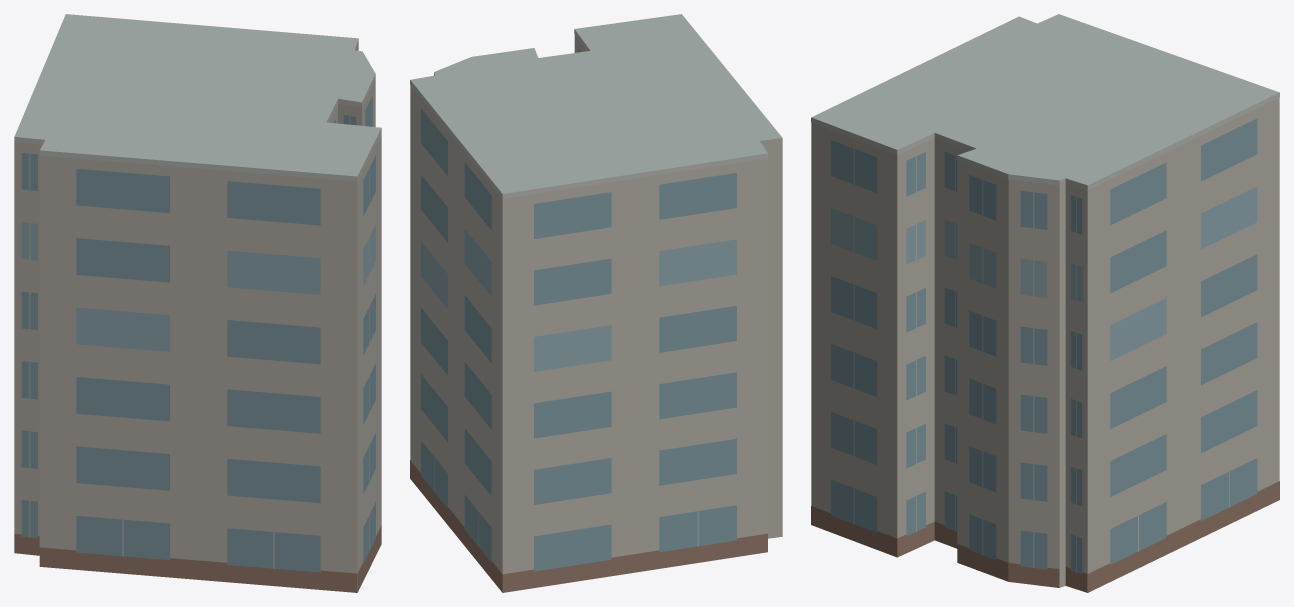
Rendered from survey-upis-32851815.glb.
The picture shows the model from 3 angles, left to right: view 1: azimuth 30°, elevation 25°; view 2: azimuth 150°, elevation 25°; view 3: azimuth 270°, elevation 25°; orthographic projection. The views are drawn at different scales.
Visible parts, largest first — view 1: survey-upis-32851815.tmp; view 2: survey-upis-32851815.tmp; view 3: survey-upis-32851815.tmp.
Part boxes in pixels (x1,y1,x2,y2): survey-upis-32851815.tmp: (14,14,381,592); survey-upis-32851815.tmp: (410,14,782,592); survey-upis-32851815.tmp: (811,14,1279,592).
Size of the model in its own units: 17.91 by 19.85 by 20.69.
